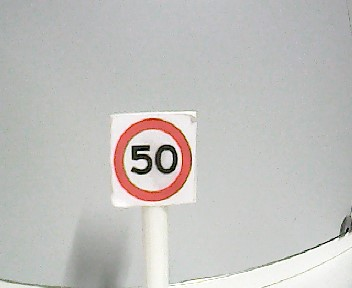50-bord: (113, 117, 192, 202)
